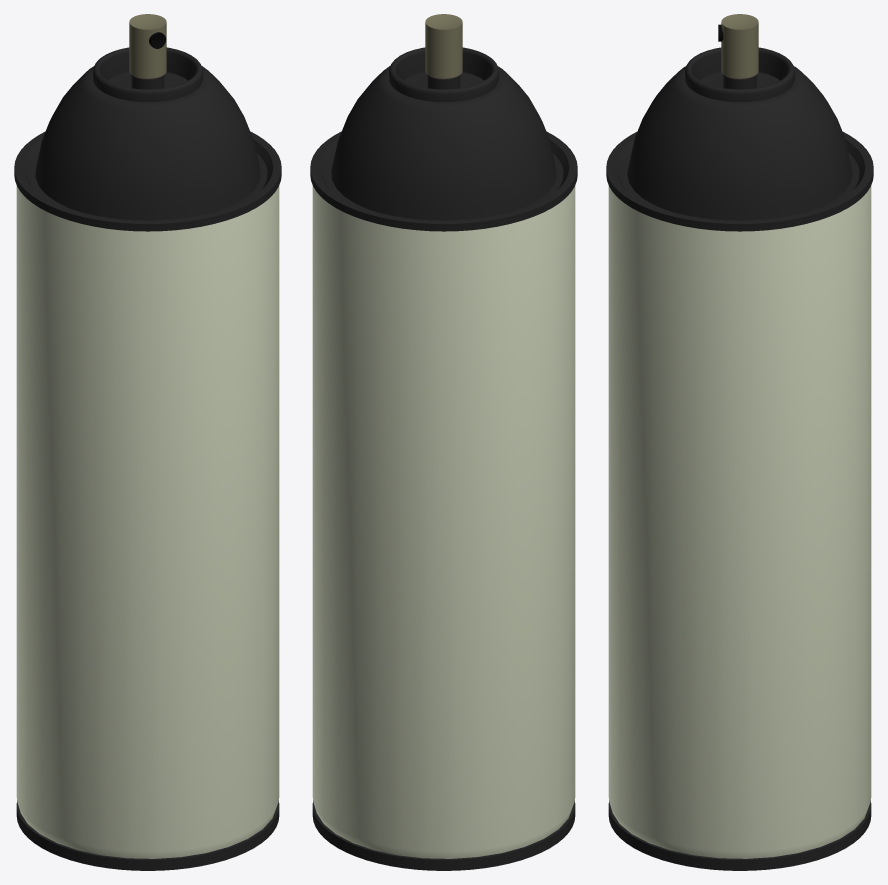
The model's file is Spray.dae.
3 views of the same model, side by side, from view 1: azimuth 30°, elevation 25°; view 2: azimuth 150°, elevation 25°; view 3: azimuth 270°, elevation 25° (orthographic).
Parts seen in each view (by area): view 1: Body (×2), Button; view 2: Body (×2), Button; view 3: Body (×2), Button.
Part boxes in pixels (x1,y1,x2,y2): Body (×2): [14, 47, 281, 870]; Button: [129, 14, 166, 78]; Body (×2): [310, 47, 577, 870]; Button: [425, 14, 462, 78]; Body (×2): [606, 47, 873, 870]; Button: [721, 14, 758, 78].
Size of the model in its own units: 0.6108 by 2 by 0.6108.
